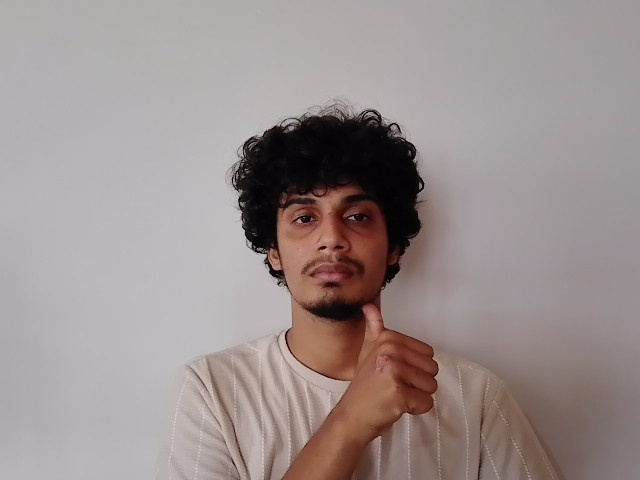not: (286, 286, 449, 413)
